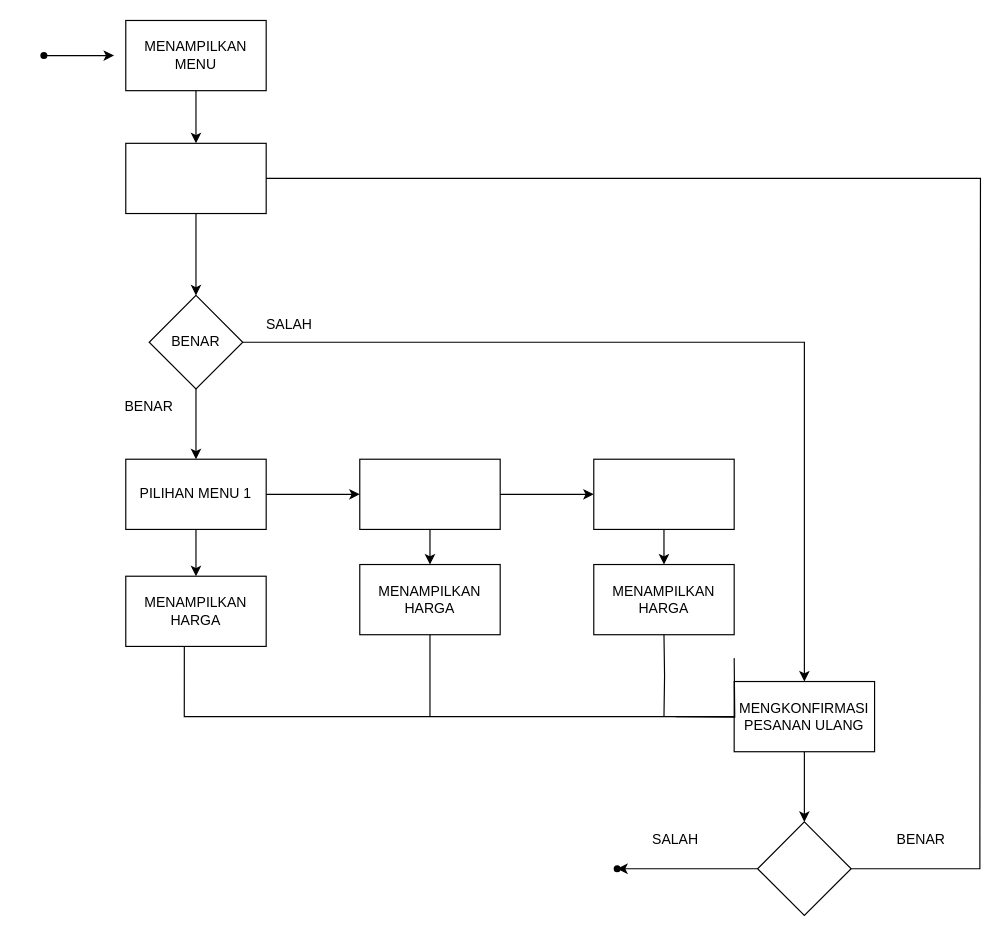
This 1003x936 diagram has some shape labels left out. The centre of each missing label's shape, as x and y in pixels:
"MEMILIH MENU" belongs at pixel 195 178.
"PILIHAN MENU 2" belongs at pixel 429 493.
"PILIHAN MENU 3" belongs at pixel 663 493.
"Y/N" belongs at pixel 803 868.
